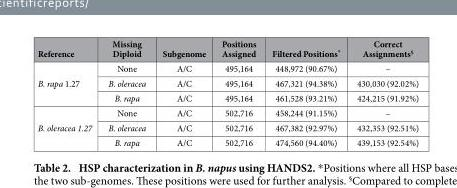table: (36, 37, 418, 148)
table column: (263, 37, 347, 148), (347, 37, 418, 148), (36, 37, 99, 148), (153, 37, 213, 148), (99, 37, 153, 148), (213, 37, 263, 148)
table column header: (36, 37, 418, 60)
table row: (36, 37, 418, 60), (36, 60, 418, 75), (36, 75, 418, 90), (36, 90, 418, 105), (36, 119, 418, 134), (36, 105, 418, 119), (36, 134, 418, 148)
table spanning cell: (36, 60, 99, 105), (36, 105, 99, 148)
